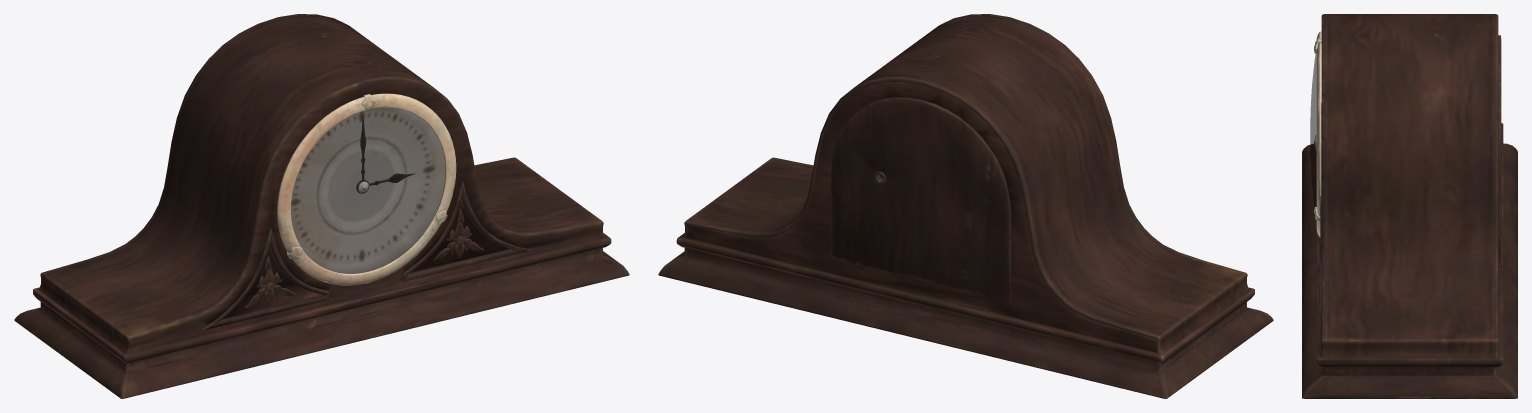
File: clock.glb
3 views of the same model, side by side, from view 1: azimuth 30°, elevation 25°; view 2: azimuth 150°, elevation 25°; view 3: azimuth 270°, elevation 25° (orthographic).
Parts seen in each view (by area): view 1: mantel_clock_01, mantel_clock_01_glass; view 2: mantel_clock_01; view 3: mantel_clock_01, mantel_clock_01_glass.
Boxes of the visible parts, left/top/right/bottom form: mantel_clock_01: left=14, top=14, right=629, bottom=398; mantel_clock_01_glass: left=291, top=107, right=445, bottom=273; mantel_clock_01: left=658, top=14, right=1273, bottom=398; mantel_clock_01: left=1302, top=14, right=1517, bottom=398; mantel_clock_01_glass: left=1310, top=53, right=1316, bottom=206.
Size of the model in its own units: 0.3423 by 0.1604 by 0.126.
2 materials, 2 textured.
